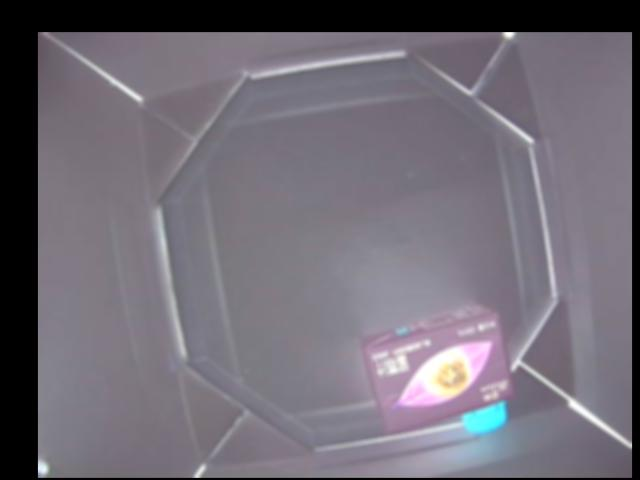Bottle: (358, 304, 515, 436)
